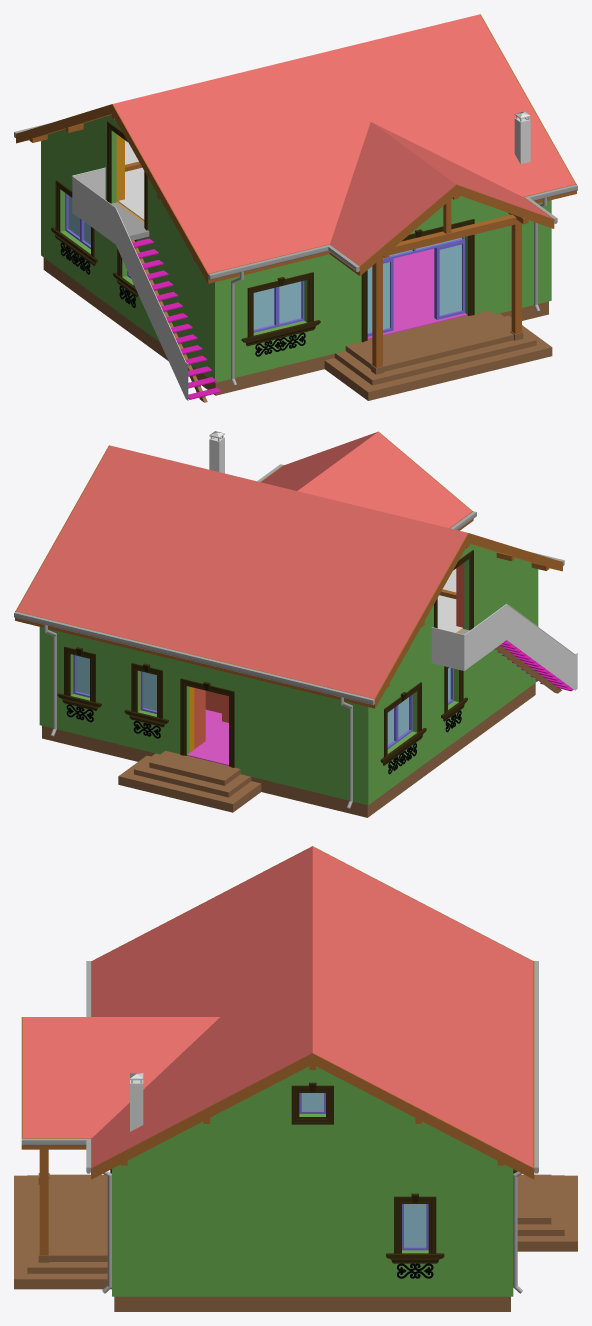
The model's file is House-1.fbx.
3 renders of one model, top to bottom at view 1: azimuth 30°, elevation 25°; view 2: azimuth 150°, elevation 25°; view 3: azimuth 270°, elevation 25°, orthographic. The views are drawn at different scales.
Parts seen in each view (by area): view 1: Casa noastră de la țară; view 2: Casa noastră de la țară; view 3: Casa noastră de la țară.
Part boxes in pixels (bbox=[...]): Casa noastră de la țară: bbox=[14, 14, 577, 402]; Casa noastră de la țară: bbox=[14, 431, 577, 817]; Casa noastră de la țară: bbox=[14, 846, 577, 1311].
Bounding box in the file's own units: 7332 × 4224 × 8040.
